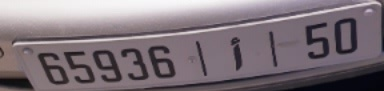0: (334, 16, 359, 56)
3: (121, 46, 149, 82)
5: (302, 20, 331, 60), (66, 51, 95, 86)
6: (37, 51, 69, 87), (146, 44, 177, 79)
9: (92, 49, 124, 83)
a: (227, 33, 246, 74)
